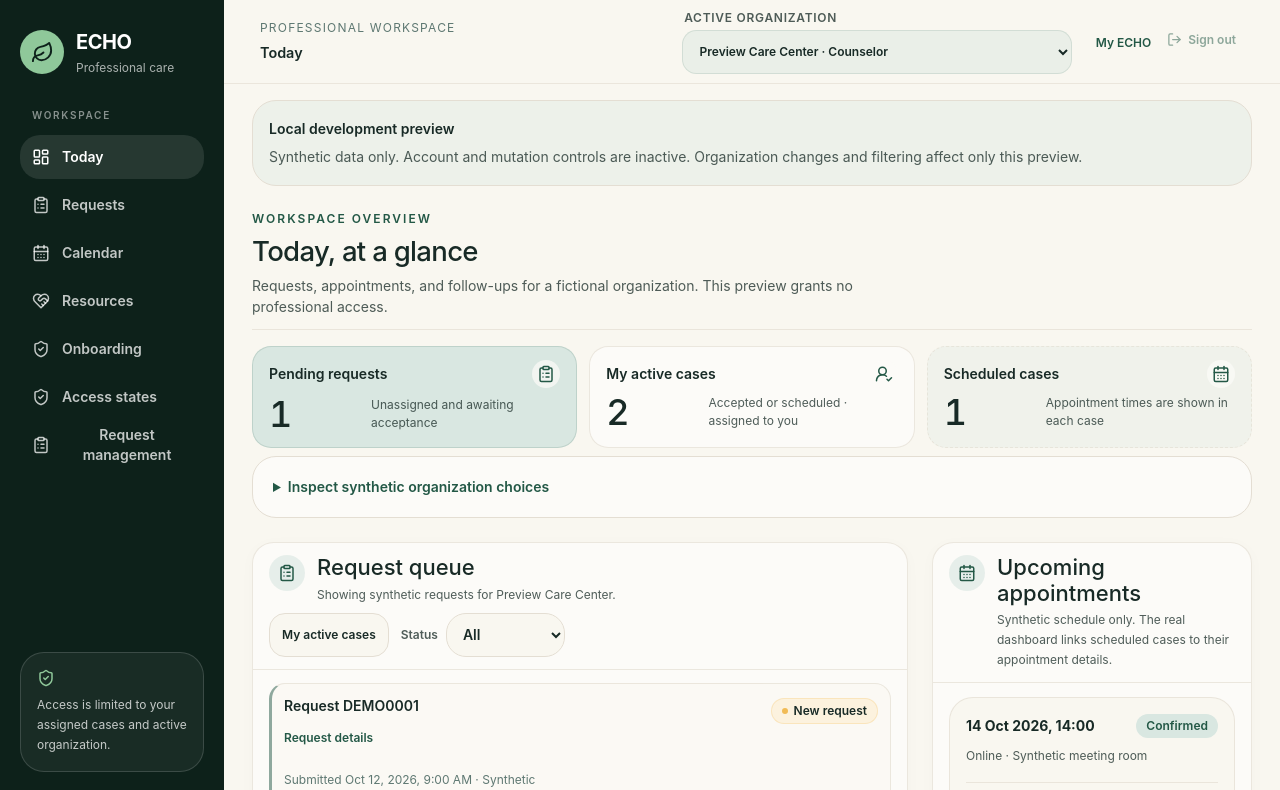
it: synthetic professional workspace › keeps organization selection and queue filtering entirely in memory
Step 1. Select "Preview Community Organization With a Long Name for Layout QA · Counselor" in the dropdown labelled "Active organization" → [877, 52], box [682,30,1072,74]
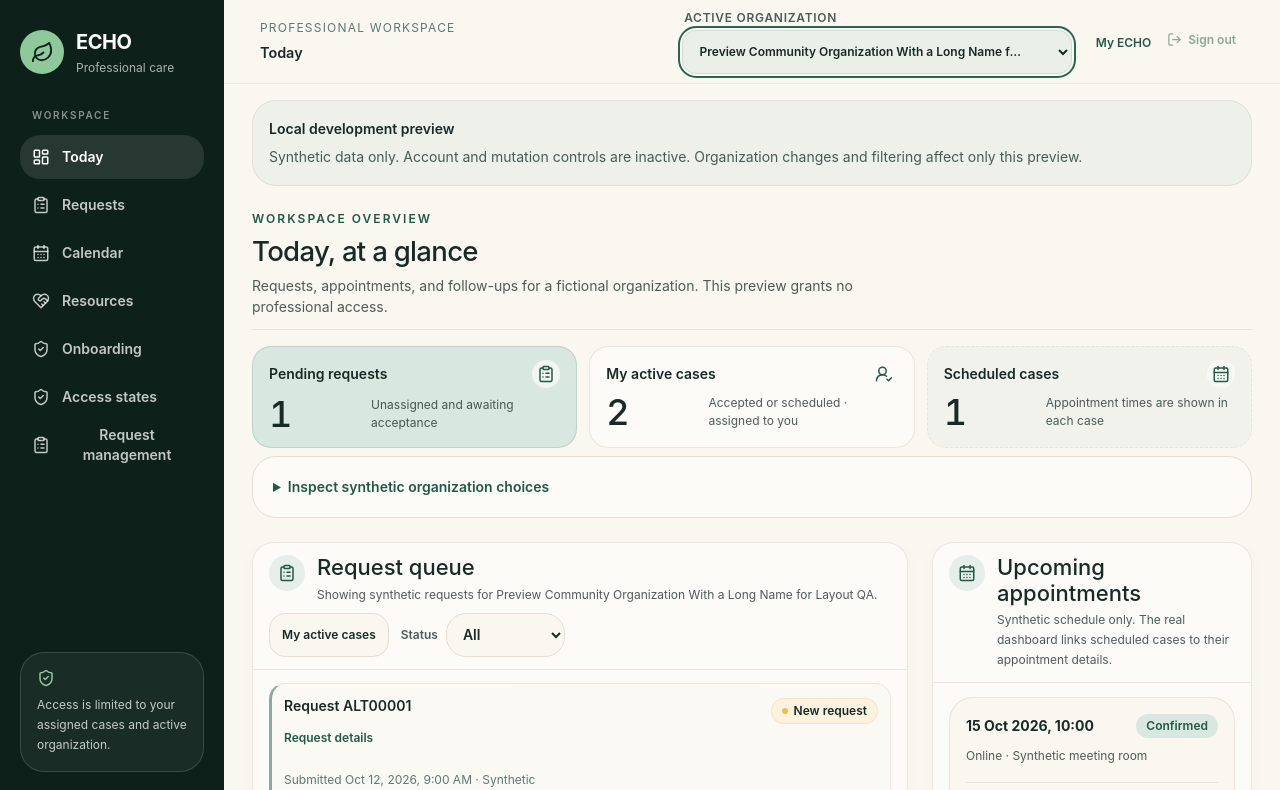
Expected: the text "Showing synthetic requests for Preview Community Organization" is shown, [317,587,877,602]
Step 2. Select "Closed" in the dropdown labelled "Status" → [505, 635], box [446,613,565,657]
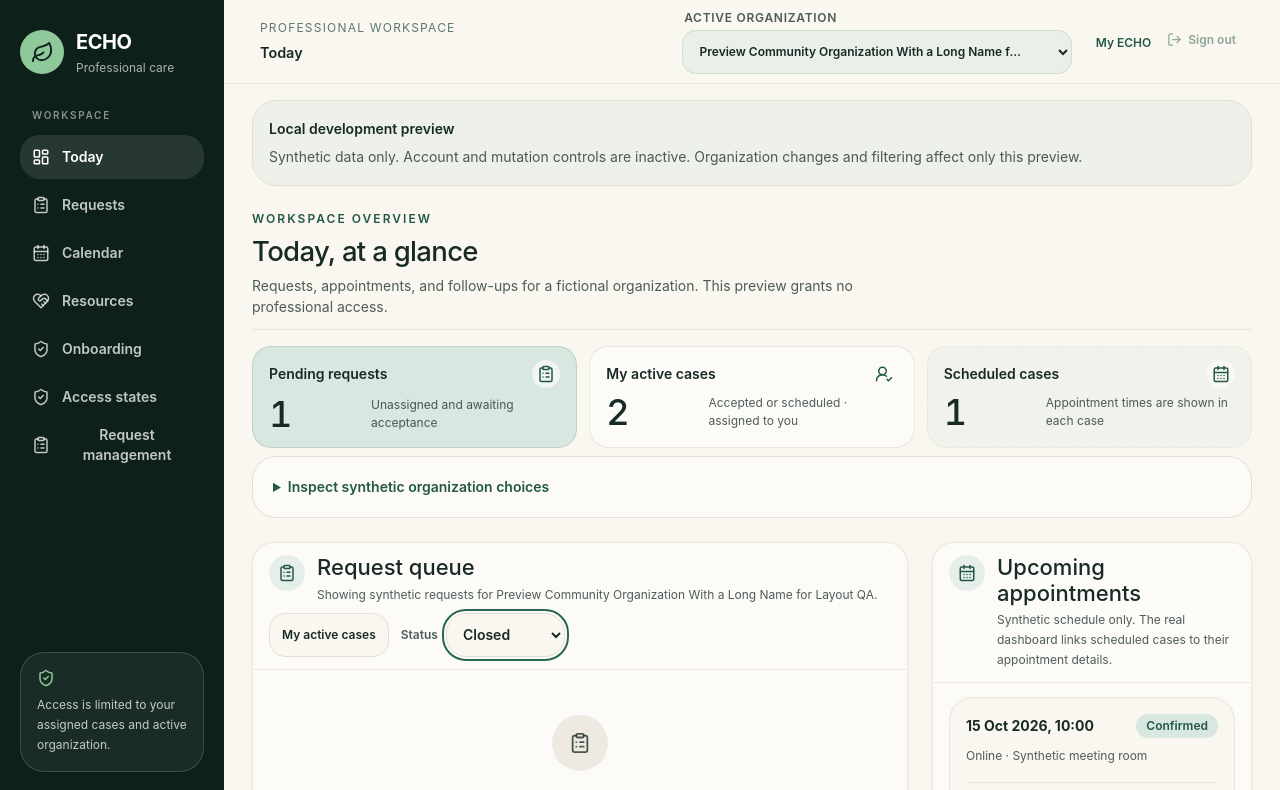
Step 3. Select "Scheduled" in the dropdown labelled "Status" → [505, 635], box [446,613,565,657]
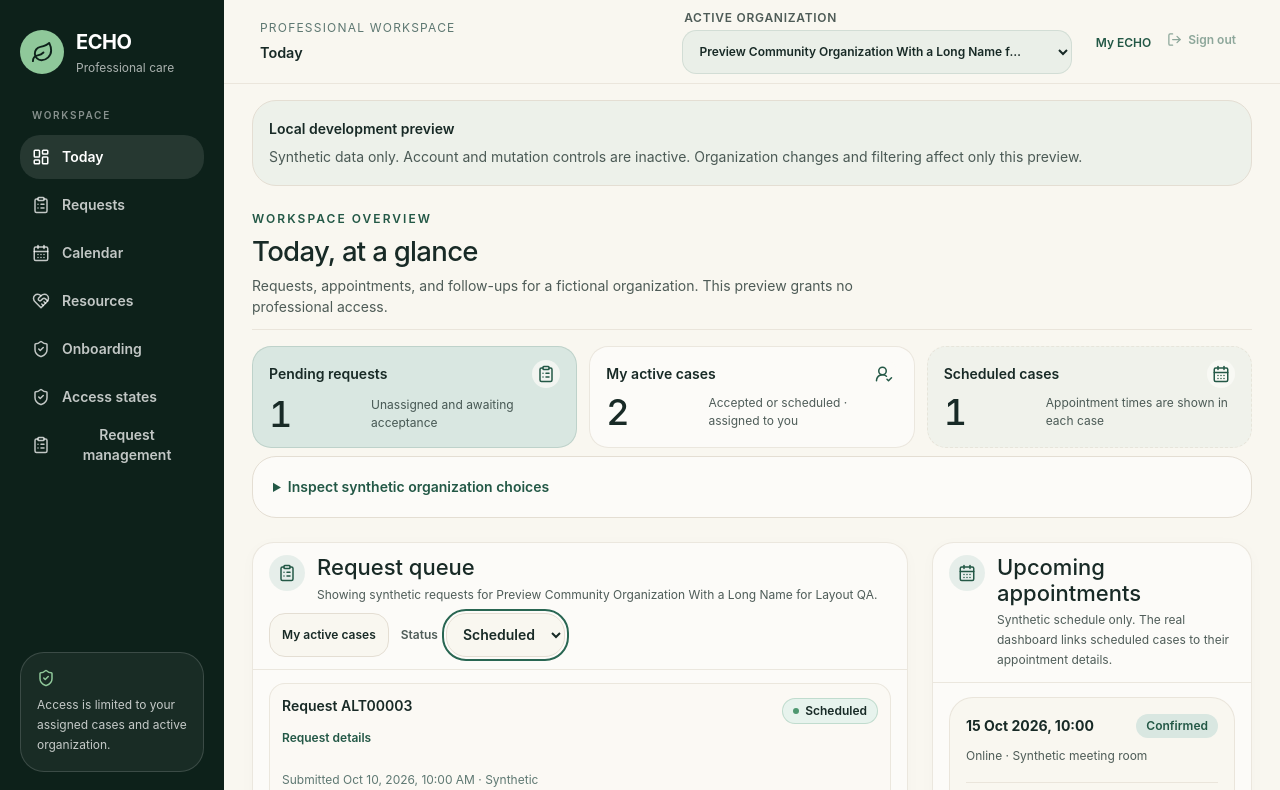
Expected: the heading "Request DEMO0001" is not shown
Expected: the heading "Request ALT00003" is shown, [282,696,412,716]
